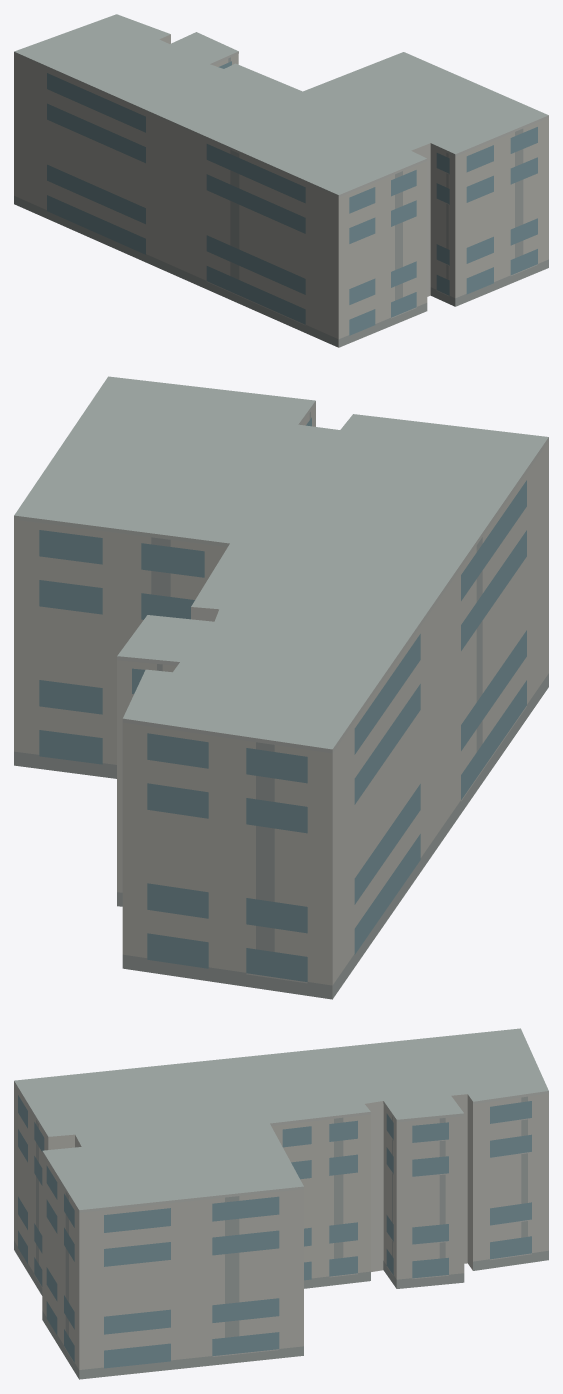
The model's file is residential-63a10461-c9c9-41ff-84f0-2191ad43f866.glb.
3 views of the same model, one above another, from view 1: azimuth 30°, elevation 25°; view 2: azimuth 150°, elevation 25°; view 3: azimuth 270°, elevation 25° (orthographic). The views are drawn at different scales.
Parts seen in each view (by area): view 1: residential-63a10461-c9c9-41ff-84f0-2191ad43f866.tmp; view 2: residential-63a10461-c9c9-41ff-84f0-2191ad43f866.tmp; view 3: residential-63a10461-c9c9-41ff-84f0-2191ad43f866.tmp.
Part boxes in pixels (bbox=[...]): residential-63a10461-c9c9-41ff-84f0-2191ad43f866.tmp: bbox=[14, 14, 548, 347]; residential-63a10461-c9c9-41ff-84f0-2191ad43f866.tmp: bbox=[14, 376, 548, 999]; residential-63a10461-c9c9-41ff-84f0-2191ad43f866.tmp: bbox=[14, 1028, 548, 1379].
Size of the model in its own units: 35.14 by 15.25 by 43.68.
